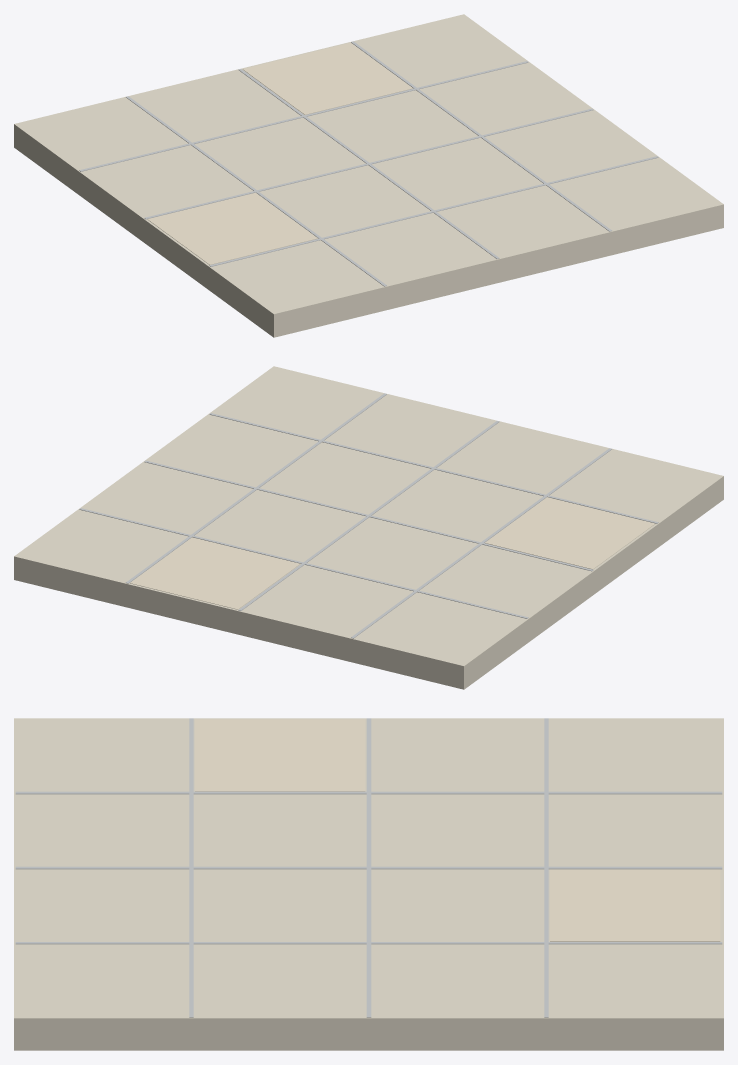
File: Mart_Floor_Tile_4m.fbx
3 renders of one model, top to bottom at view 1: azimuth 30°, elevation 25°; view 2: azimuth 150°, elevation 25°; view 3: azimuth 270°, elevation 25°, orthographic. The views are drawn at different scales.
Visible parts, largest first — view 1: Mart_Floor_Tile_4m; view 2: Mart_Floor_Tile_4m; view 3: Mart_Floor_Tile_4m.
Boxes of the visible parts, <box> form: Mart_Floor_Tile_4m: <box>14,14,723,337</box>; Mart_Floor_Tile_4m: <box>14,366,723,689</box>; Mart_Floor_Tile_4m: <box>14,718,723,1050</box>.
Bounding box in the file's own units: 4 × 0.204 × 4.
Materials: 1 (1 with a texture image).
